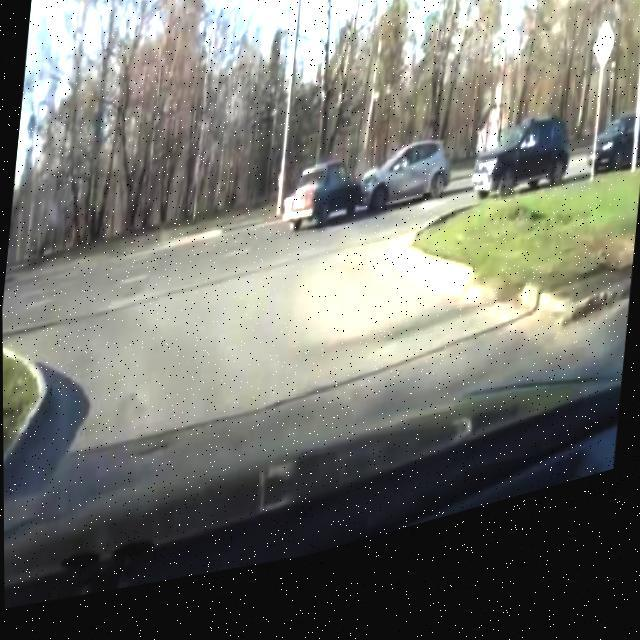Car Accident Detector - v4 Generation1 Exported: (273, 126, 462, 278)
